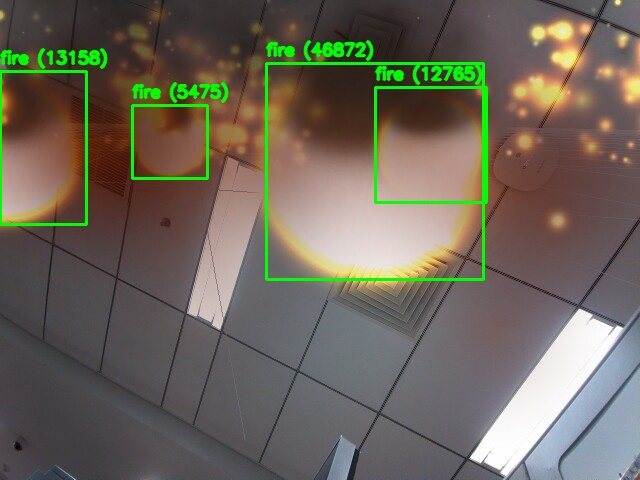fire: (266, 63, 483, 279), (0, 71, 86, 224), (375, 87, 486, 202), (132, 105, 207, 178)
